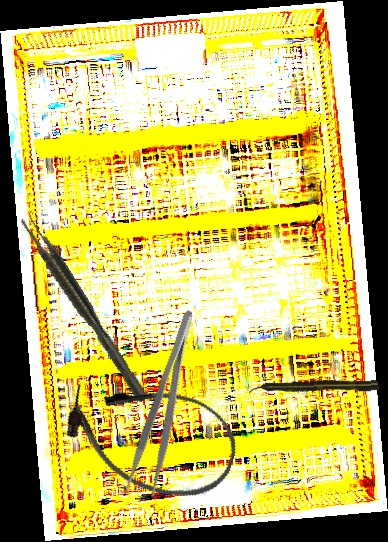Cannula: (53, 361, 249, 514)
Dressing Forceps: (121, 307, 214, 501)
Handpiece: (248, 379, 380, 394)
Tissue Forceps: (17, 211, 150, 407)
